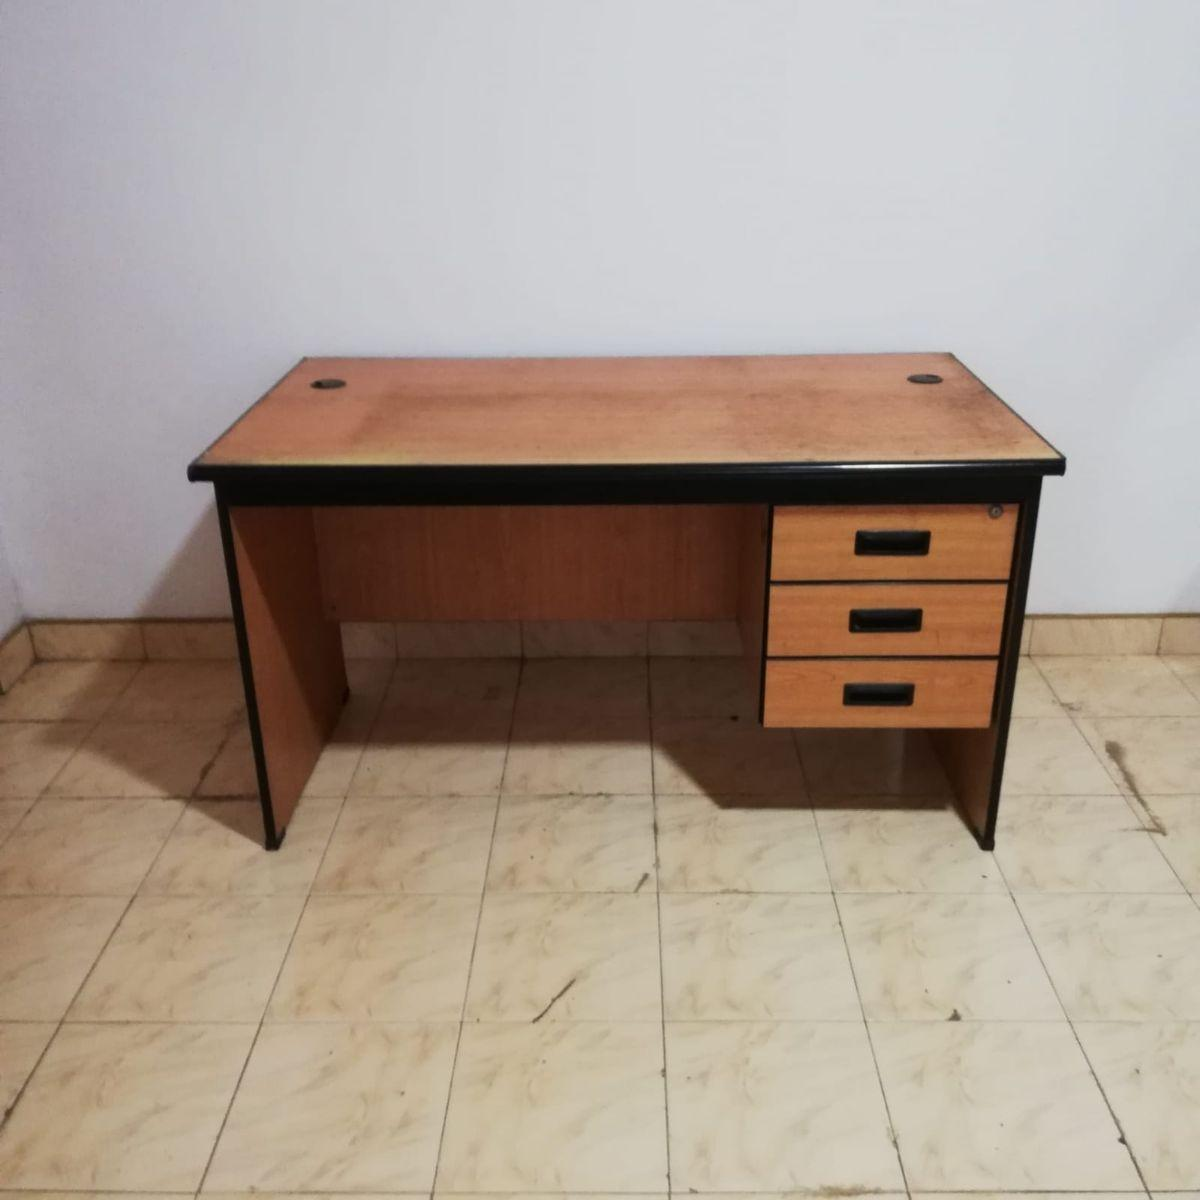Table: (140, 319, 1118, 902)
